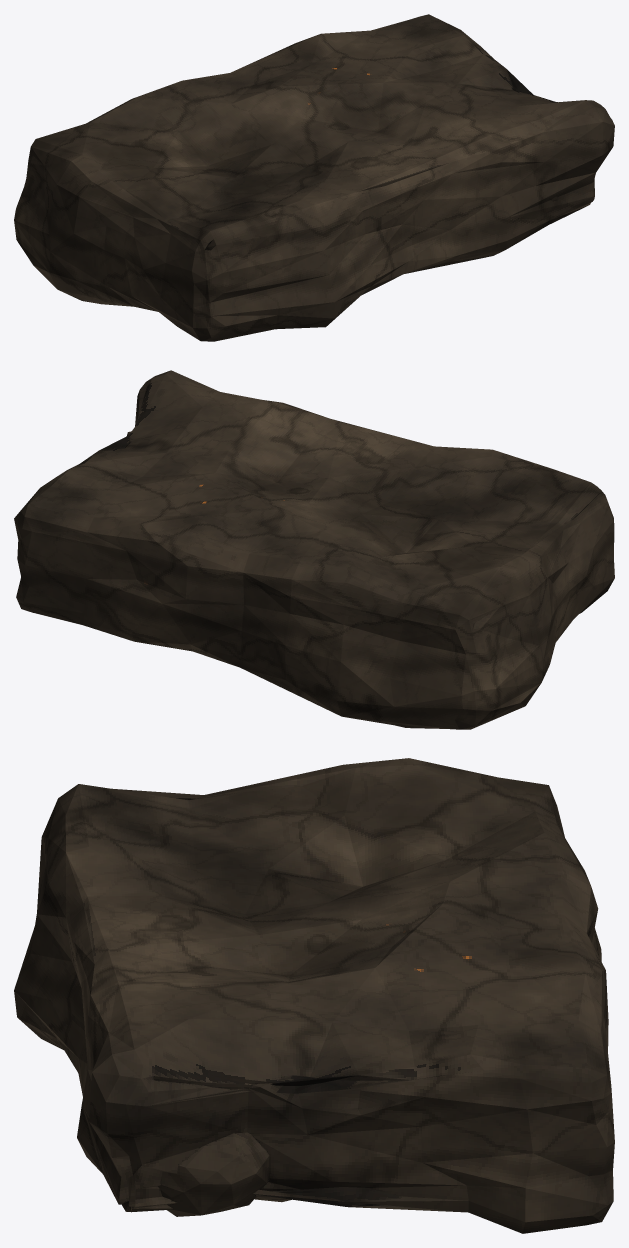
File: mine_ledge_a.glb
3 renders of one model, top to bottom at view 1: azimuth 30°, elevation 25°; view 2: azimuth 150°, elevation 25°; view 3: azimuth 270°, elevation 25°, orthographic. The views are drawn at different scales.
Visible parts, largest first — view 1: mine_ledge_a; view 2: mine_ledge_a; view 3: mine_ledge_a.
Boxes of the visible parts, x1=… form: mine_ledge_a: x1=14, y1=14, x2=614, y2=341; mine_ledge_a: x1=14, y1=370, x2=614, y2=729; mine_ledge_a: x1=14, y1=758, x2=614, y2=1233.
Size of the model in its own units: 1.98 by 0.6465 by 1.39.
1 material, 1 textured.
